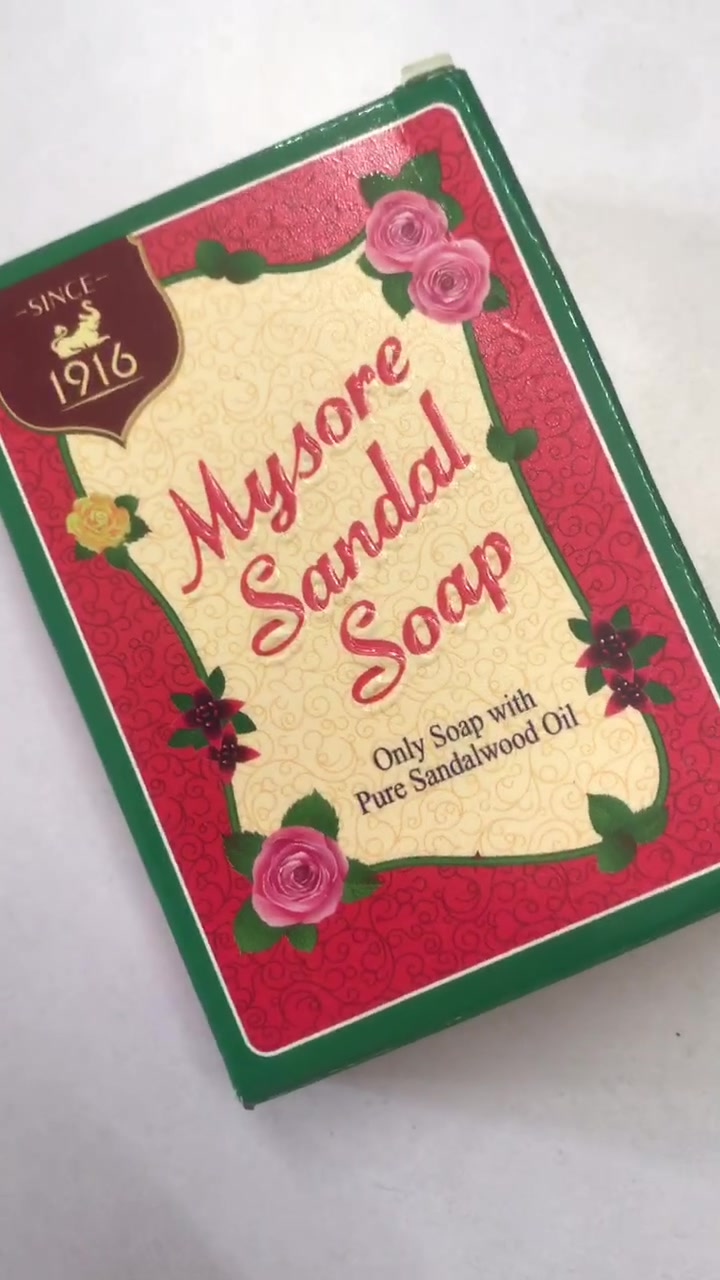mysore sandal soap: (2, 73, 720, 1106)
